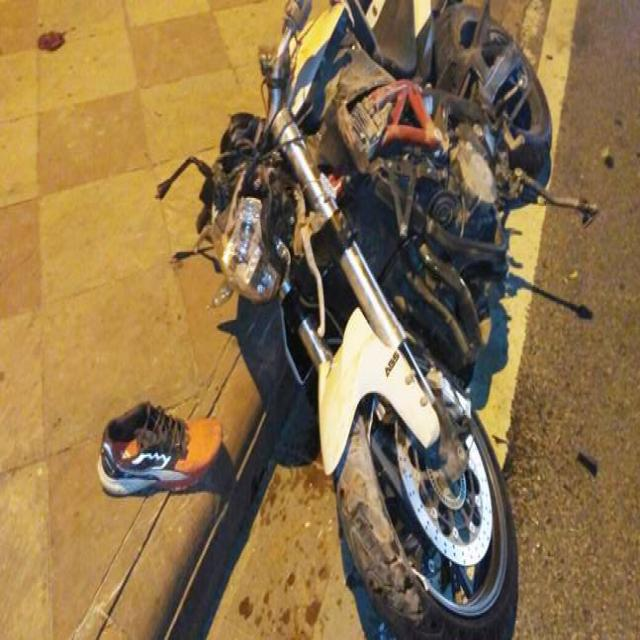accident: (200, 0, 598, 637)
